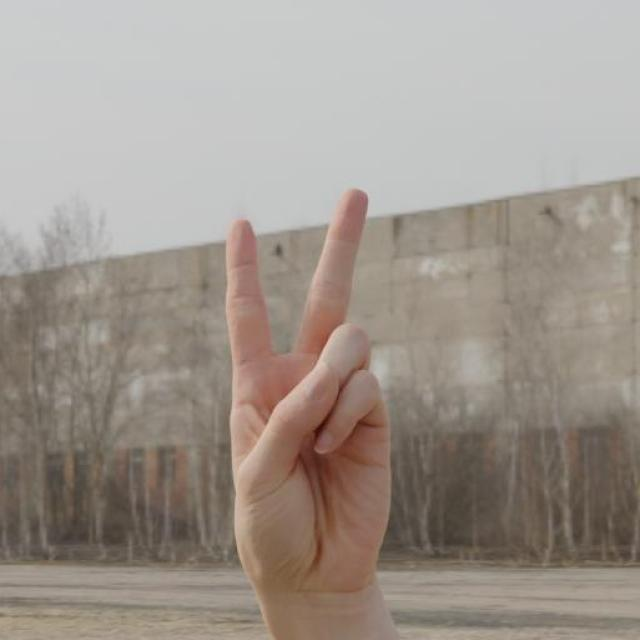V: (226, 178, 390, 623)
